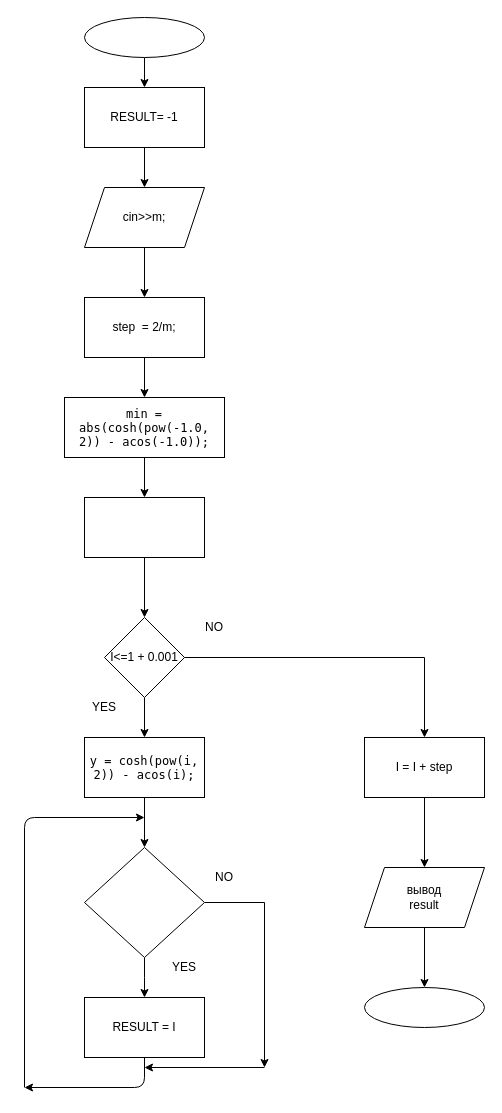
The diagram is 502 pixels wide and 1113 high, and some of its shapes have lost their labels. The shapes that lost their labels are listed below. From the top down, each one's centre as x and y in pixels, then its label:
point 144,37: START
point 144,527: I = -1;
point 144,902: abs(y) < min
point 424,1007: FINISH
